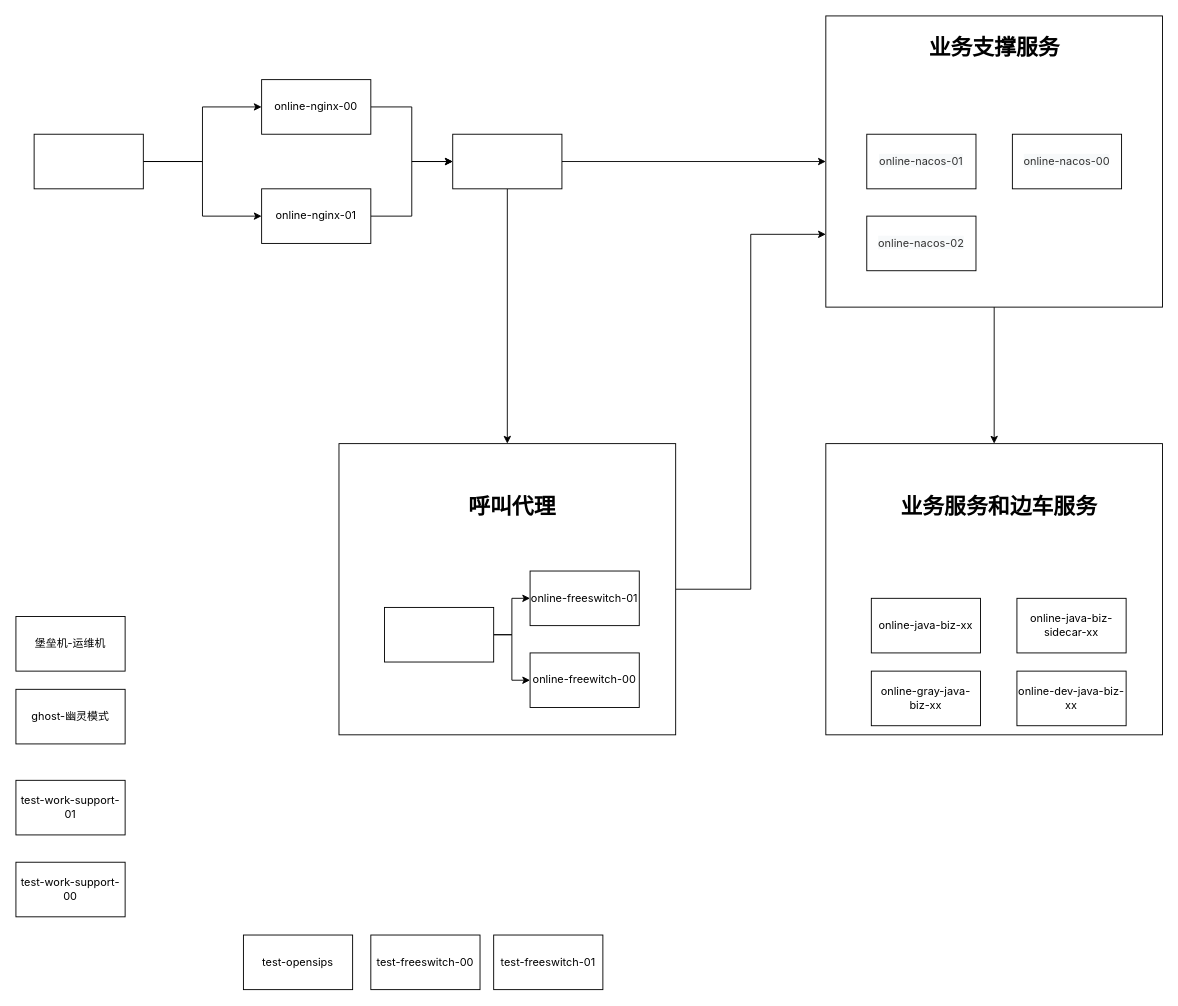
Image size: 1178x1006. Some labels were removed from this diagram. The shapes that lost their labels are listed below. From the top down, each one's centre as x and y in pixels, then its label:
At (x=88, y=161): "域名dns负载均衡".
At (x=507, y=161): "online-web (内部代理)".
At (x=439, y=634): "online-opensips".
